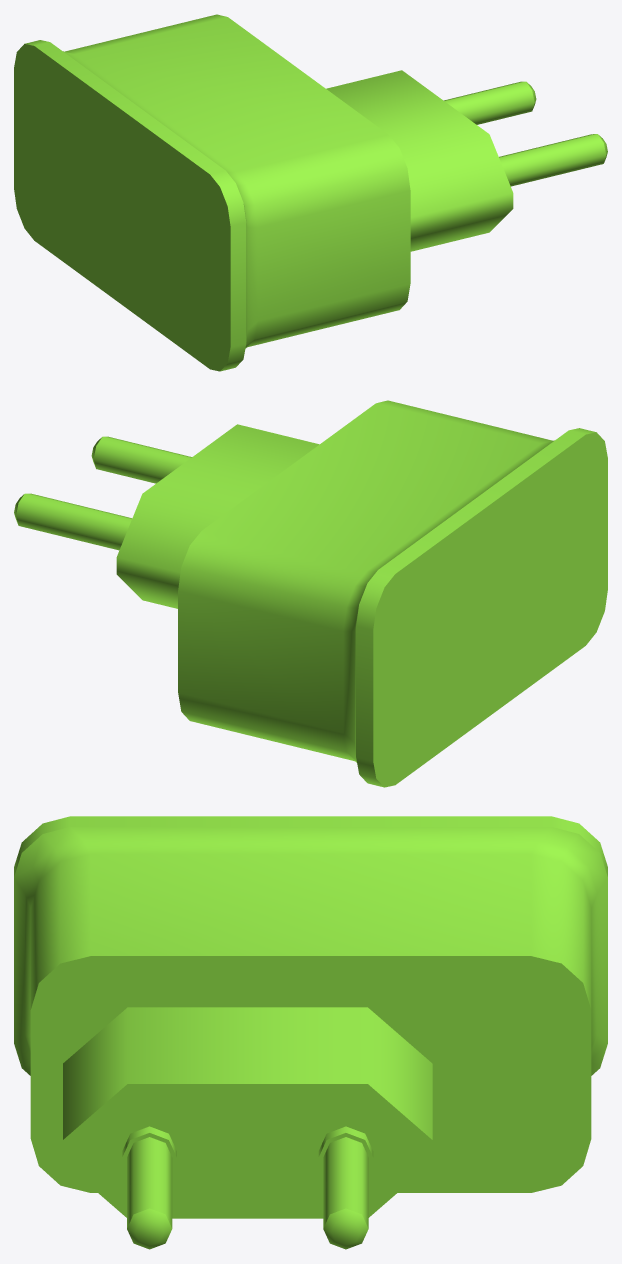
Rendered from SM_P_Block_2.fbx.
3 views of the same model, one above another, from view 1: azimuth 30°, elevation 25°; view 2: azimuth 150°, elevation 25°; view 3: azimuth 270°, elevation 25° (orthographic). The views are drawn at different scales.
Visible parts, largest first — view 1: SM_P_Block_2; view 2: SM_P_Block_2; view 3: SM_P_Block_2.
Boxes of the visible parts, x1=… form: SM_P_Block_2: x1=14, y1=14, x2=607, y2=371; SM_P_Block_2: x1=14, y1=400, x2=607, y2=787; SM_P_Block_2: x1=14, y1=816, x2=607, y2=1249.
Size of the model in its own units: 6.26 by 2.77 by 5.57.
